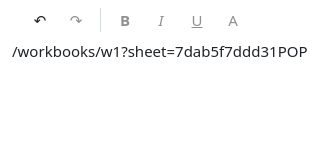
Test: Toolbar undo/redo › buttons follow the stacks and undo/redo your edits
Later steps or results of the test are not shown.
Check: the button named "Redo" is disabled, box [60,4,92,36]
What coordinates should you click on to do the following:
click the button named "Undo"
I would click on:
 (40, 20)
Its box is [24,4,56,36].
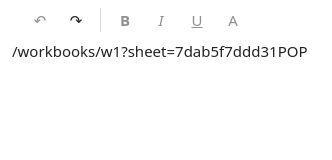
Check: the button named "Undo" is disabled, box [24,4,56,36]
Check: the button named "Redo" is enabled, box [60,4,92,36]
